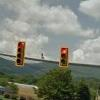Traffic light: (13, 37, 86, 81)
